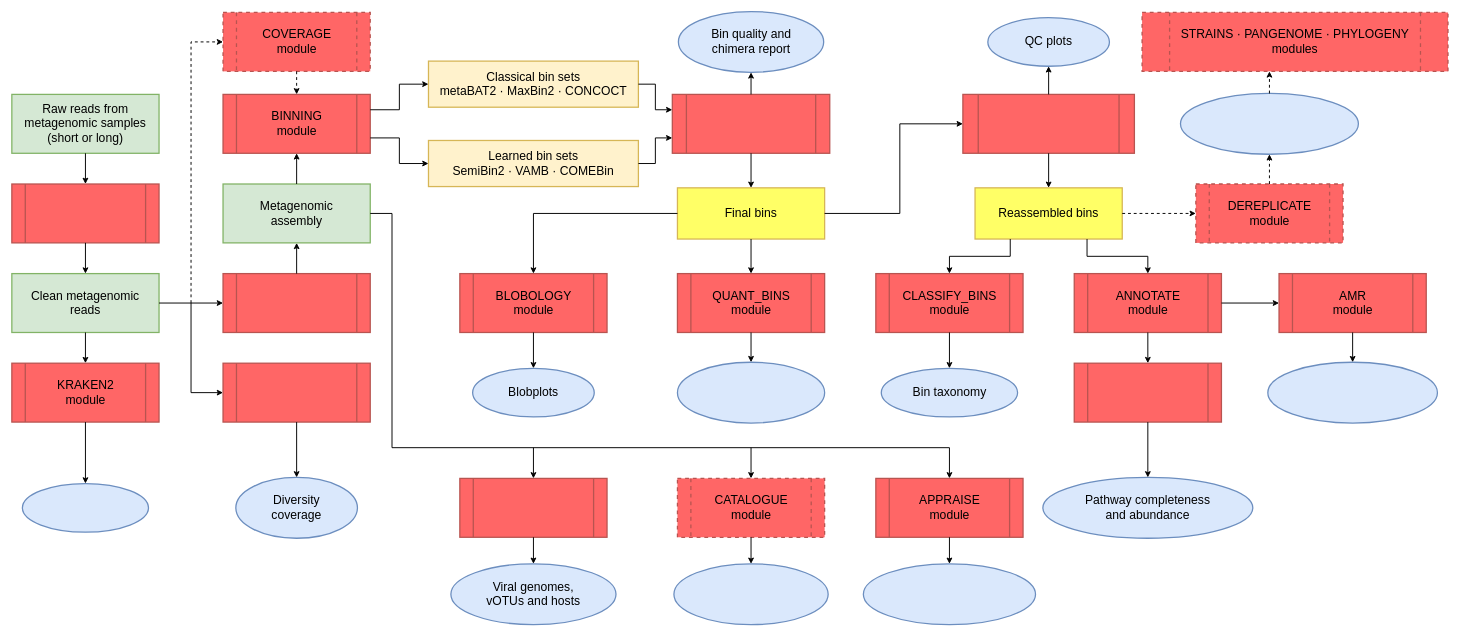
Some shapes in this 1459 by 636 pixel diagram are drawn without their labels. The centre of each missing label's shape, as x and y in pixels:
ASSEMBLY module: (296,303)
Bin abundance table: (750,392)
BIN_REFINEMENT module: (750,123)
Gene catalogue across samples: (750,594)
Genome catalogue across samples: (1269,123)
Kronagrams: (85,507)
NONPAREIL module: (296,392)
PATHWAYS module: (1147,392)
READ_QC module: (85,213)
REASSEMBLE_BINS module: (1048,123)
Resistance genes in context: (1352,392)
Share of the community binned: (949,594)
VIRUSES module: (533,507)
